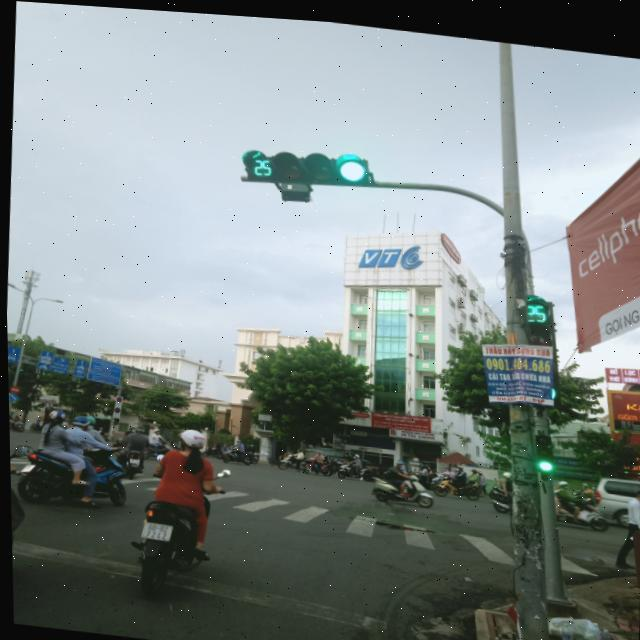Green: (264, 141, 372, 188), (521, 416, 558, 474)
